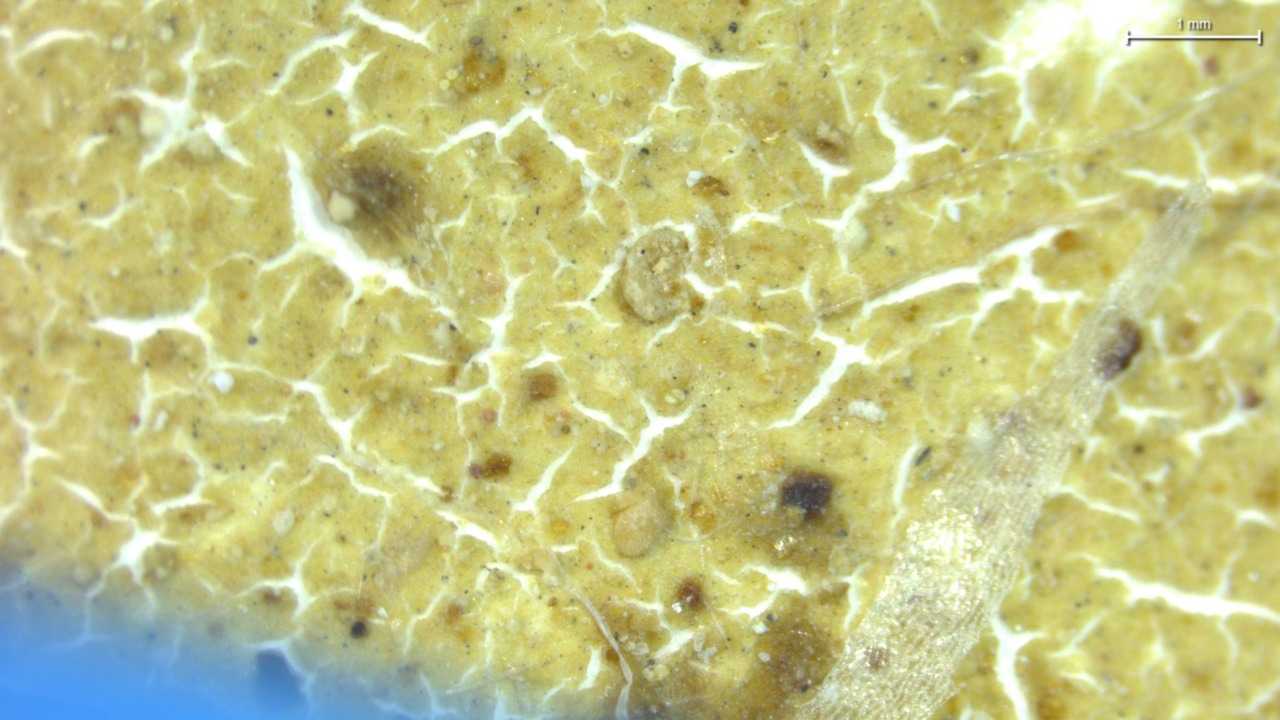microplastic_fragment: (625, 227, 704, 321), (612, 499, 670, 558), (848, 399, 884, 422)
